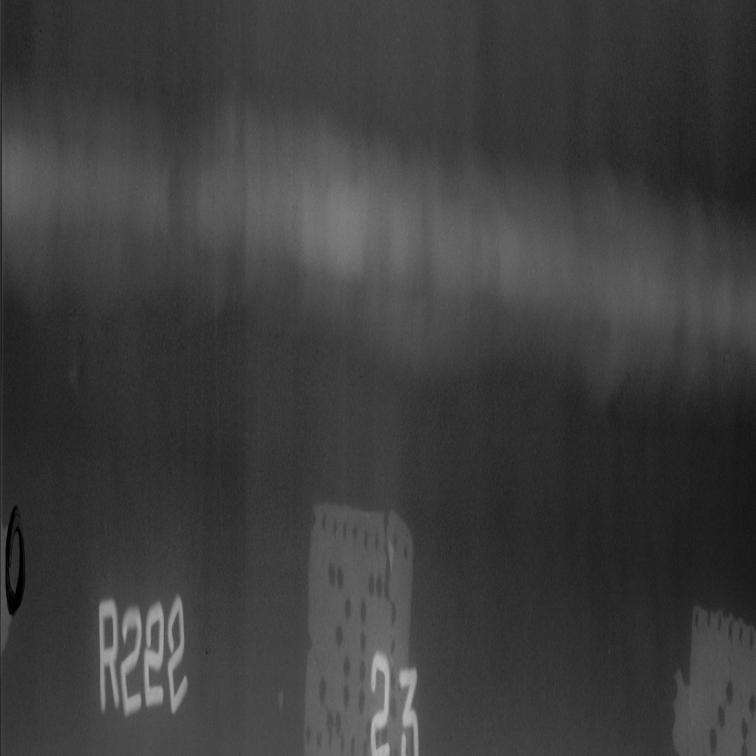FF: (5, 100, 756, 382)
